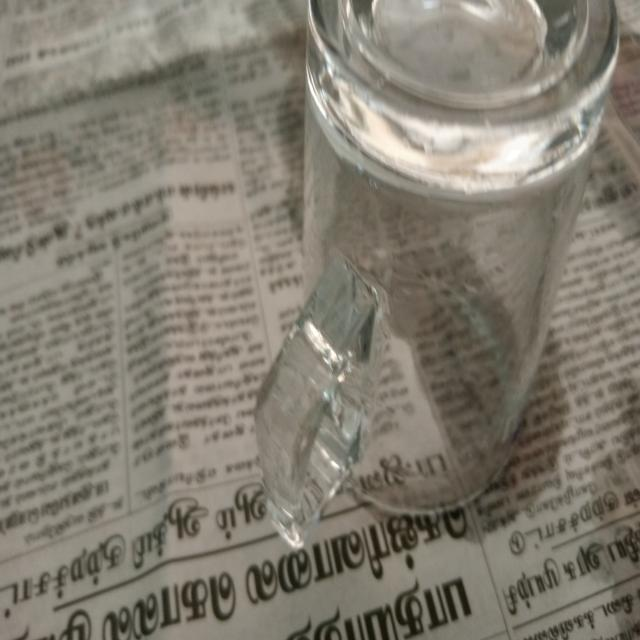glass-VX4N: (249, 0, 635, 554)
